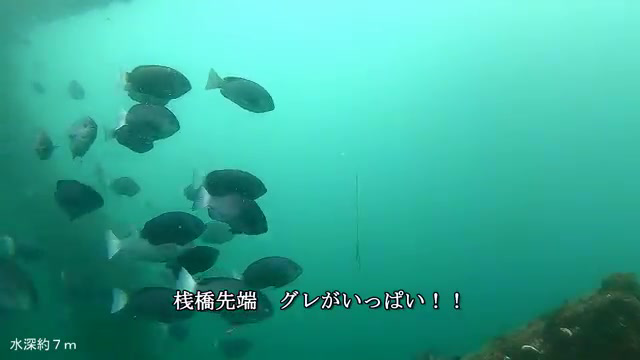smallfish: (101, 205, 209, 265), (195, 63, 289, 117), (188, 157, 283, 210), (191, 186, 274, 241), (108, 58, 195, 99), (242, 253, 318, 294)
